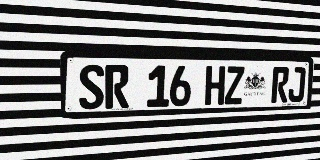1: (147, 65, 170, 107)
6: (170, 66, 191, 106)
H: (205, 66, 225, 105)
J: (288, 67, 306, 102)
R: (105, 65, 129, 109), (271, 67, 290, 103)
S: (79, 64, 104, 110)
Z: (224, 66, 245, 105)
